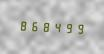eight: (17, 18, 27, 32), (40, 19, 50, 33)
four: (51, 19, 61, 34)
nine: (62, 20, 72, 35), (73, 21, 83, 35)
six: (28, 18, 38, 33)
